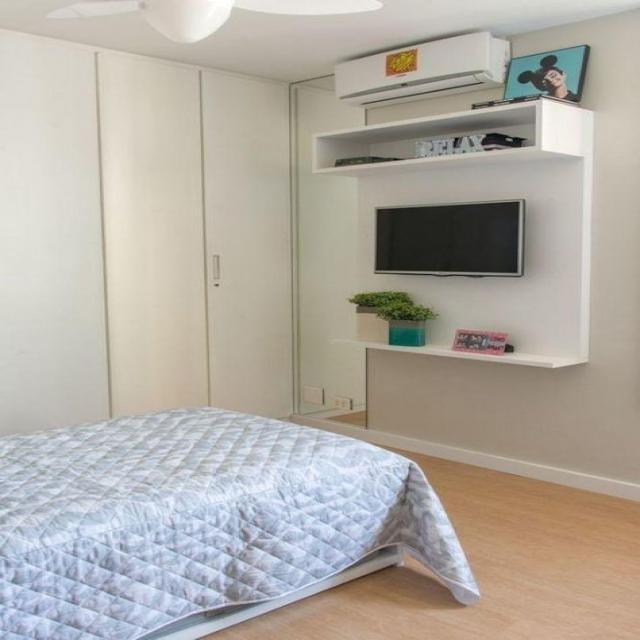AC: (335, 30, 511, 108)
AIO PC-Monitor-TV: (372, 196, 526, 278)
